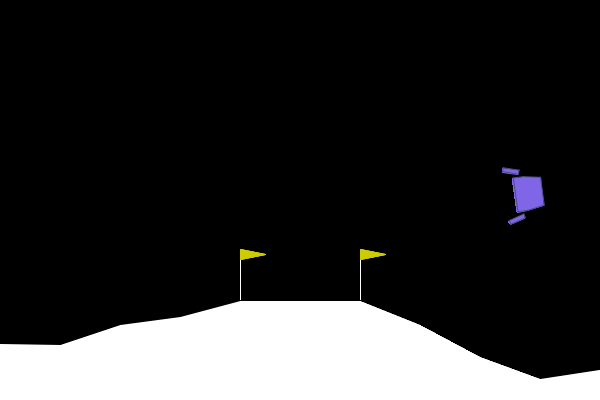lander: (500, 162, 548, 226)
